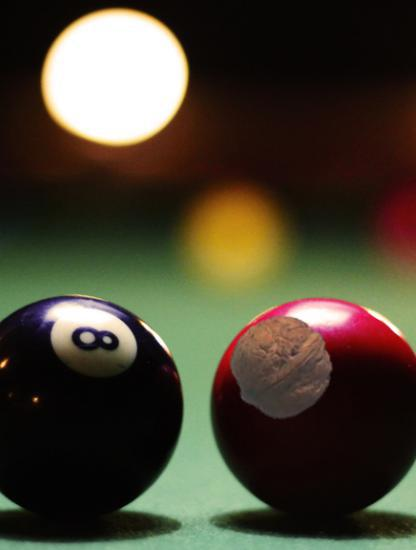Walnut: (229, 314, 334, 419)
